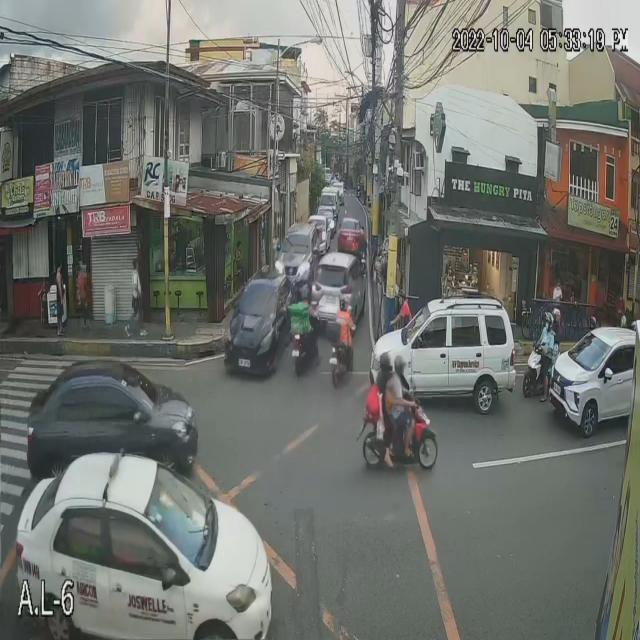half: (543, 310, 552, 332), (552, 305, 562, 324)
invalid: (395, 357, 410, 374), (380, 350, 390, 362)
not_wearing: (385, 372, 395, 390)
